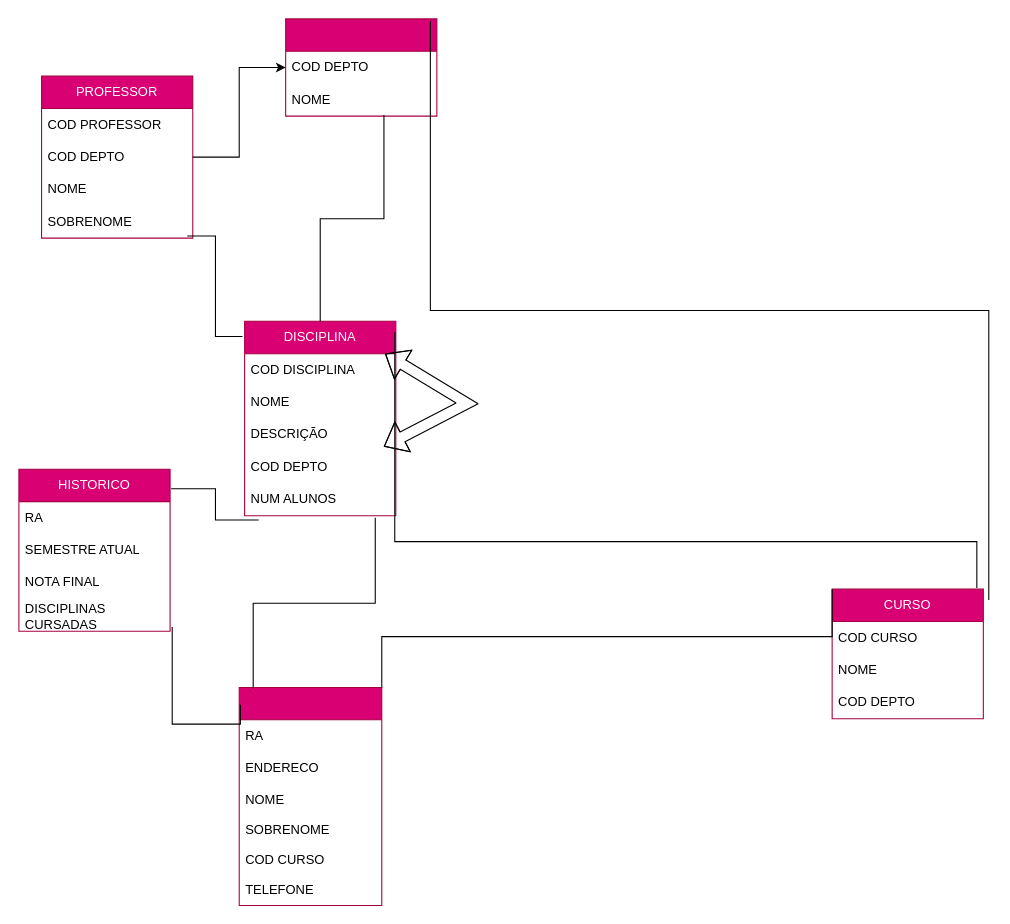
Image size: 1010x924. Some labels were removed from this diagram. The shapes that lost their labels are listed below. From the top down, each one's box as (x1, y1, x2, y2) in pixels, then its label:
(285, 18, 437, 116): DEPARTAMENTO
(238, 686, 382, 906): ALUNO
